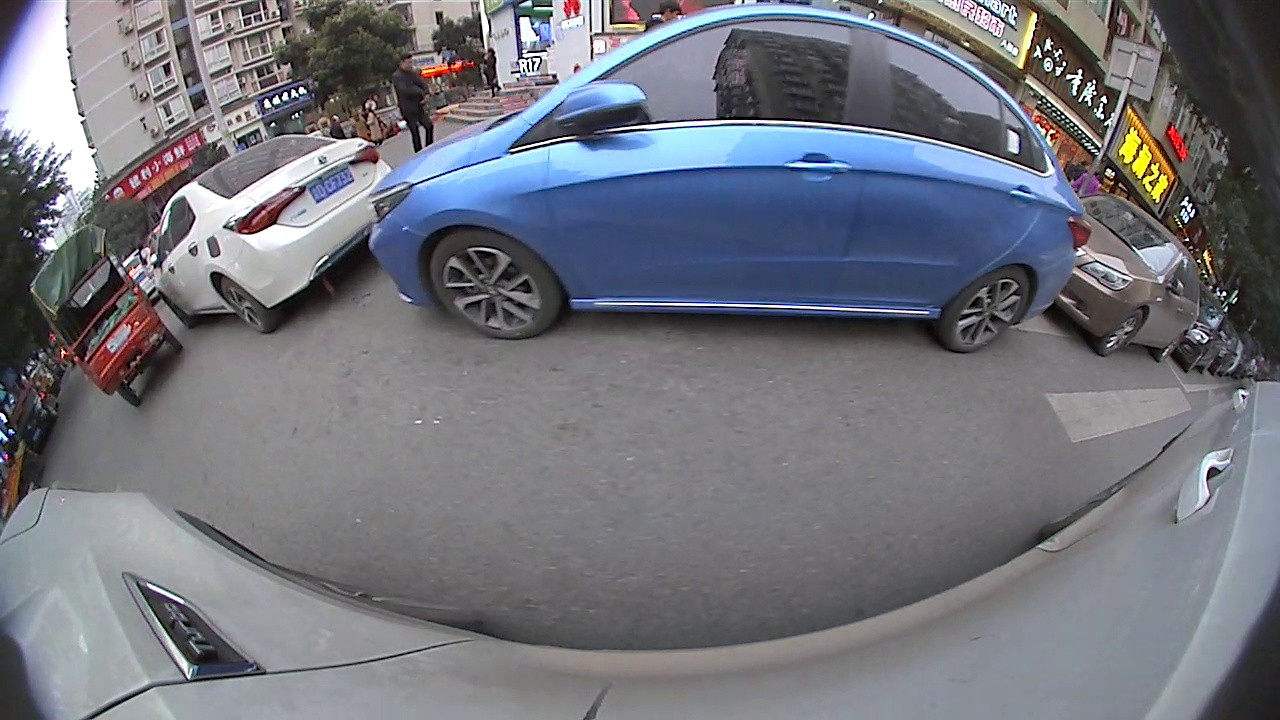car: (364, 4, 1093, 355), (149, 131, 396, 335), (1053, 190, 1205, 364)
front: (431, 229, 559, 340), (1100, 303, 1151, 355)
person: (389, 52, 426, 149)
rear: (950, 259, 1035, 352), (212, 278, 277, 334)
rider: (29, 219, 186, 410)
